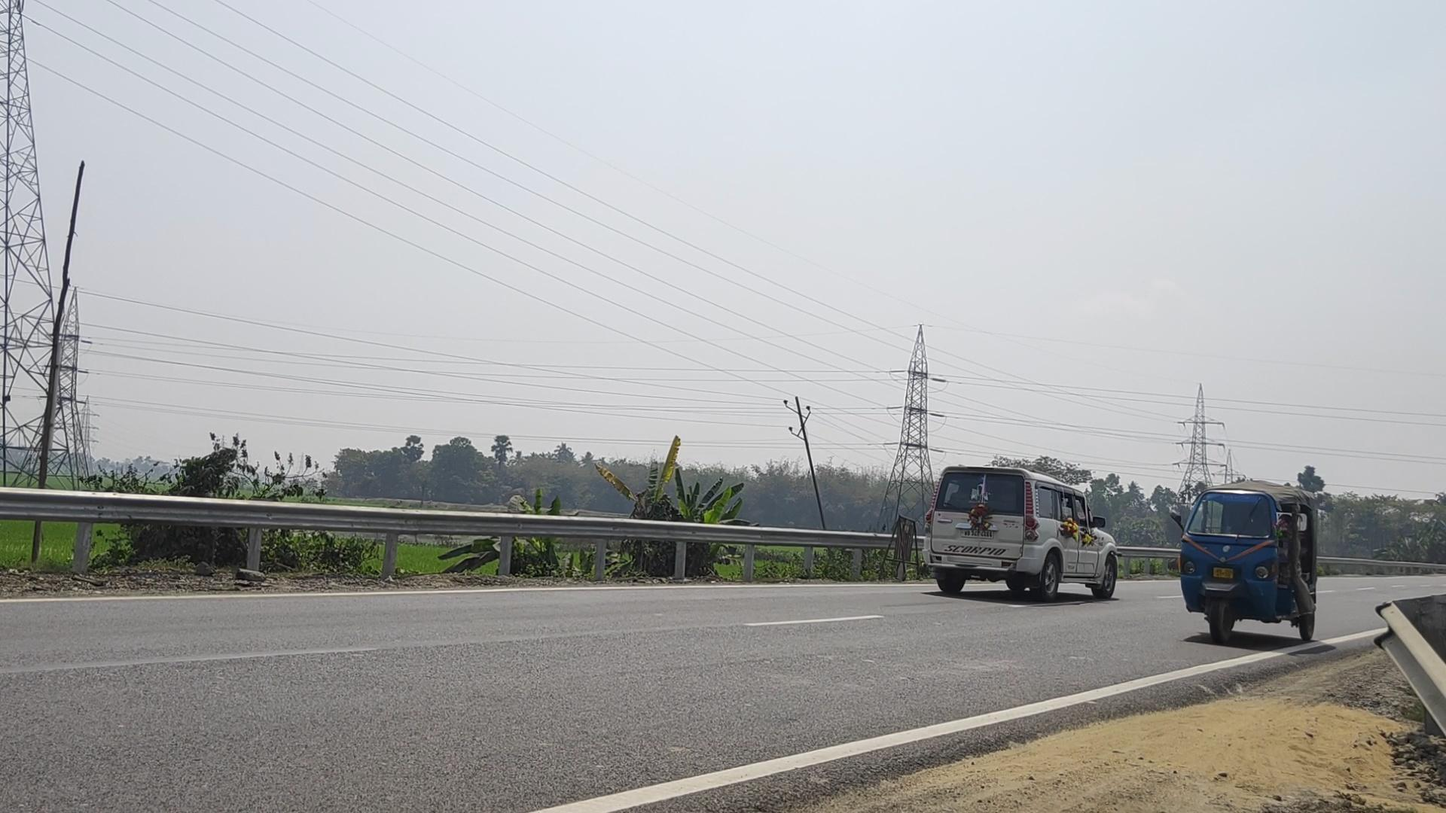Auto: (1170, 480, 1317, 644)
car: (921, 465, 1122, 603)
